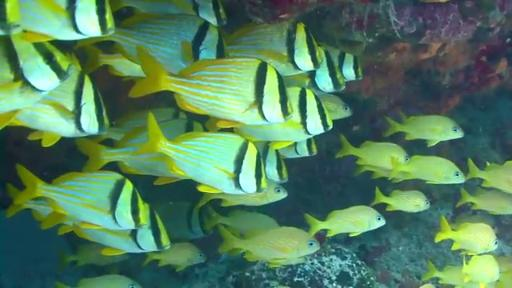Fish: (129, 48, 292, 127), (137, 114, 267, 194), (14, 164, 148, 229), (80, 14, 226, 73), (8, 69, 109, 147), (0, 35, 75, 127), (234, 88, 332, 148), (76, 127, 179, 183), (227, 22, 324, 75), (72, 204, 171, 255), (18, 0, 115, 41), (219, 226, 319, 265), (285, 45, 362, 92), (94, 108, 187, 141), (111, 0, 227, 26), (6, 197, 80, 234), (284, 49, 345, 93), (336, 136, 410, 169), (305, 206, 385, 236), (435, 216, 498, 254), (384, 116, 463, 146), (198, 181, 287, 207), (152, 202, 209, 241), (205, 207, 279, 236), (391, 156, 465, 183), (81, 45, 145, 76), (59, 243, 128, 269), (143, 243, 206, 271), (456, 188, 511, 215), (468, 159, 511, 193), (323, 45, 362, 82), (371, 188, 430, 212), (255, 142, 288, 183), (463, 255, 500, 287), (422, 260, 465, 285), (355, 165, 408, 182), (318, 94, 352, 119), (278, 137, 317, 158), (76, 275, 142, 287), (0, 0, 22, 35), (450, 214, 496, 229), (495, 271, 511, 287), (496, 256, 511, 271), (420, 0, 451, 3), (420, 284, 435, 287)
